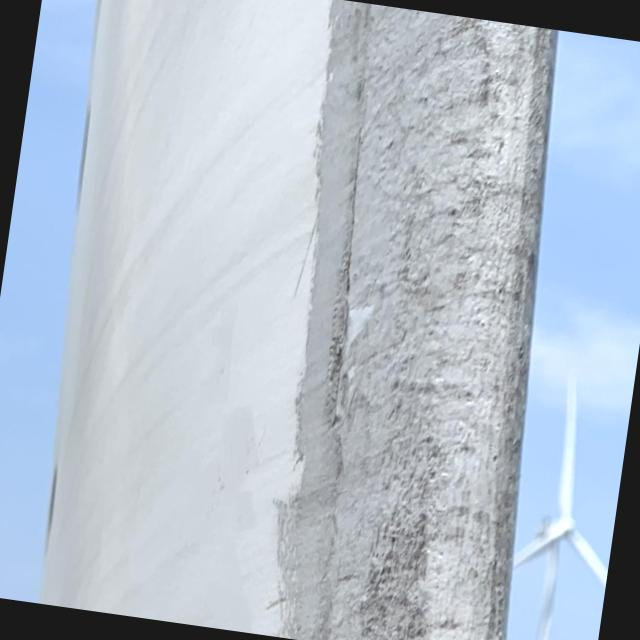corrosion: (268, 7, 590, 640)
